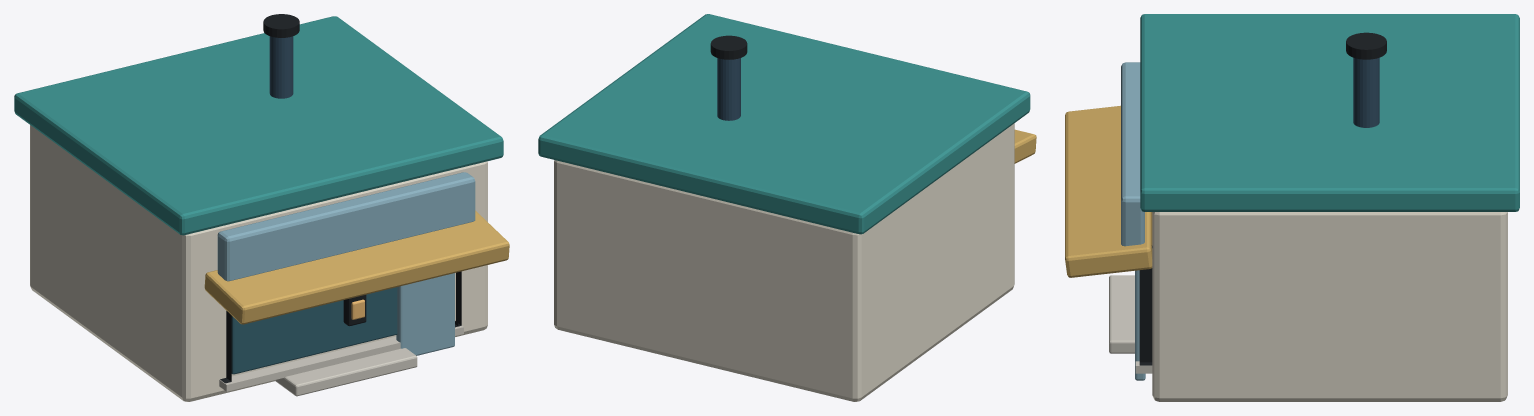
Rendered from COM_KIOSK_1x1_006.glb.
3 renders of one model, left to right at view 1: azimuth 30°, elevation 25°; view 2: azimuth 150°, elevation 25°; view 3: azimuth 270°, elevation 25°, orthographic. The views are drawn at different scales.
Visible parts, largest first — view 1: COM_KIOSK_1x1_006_Visual; view 2: COM_KIOSK_1x1_006_Visual; view 3: COM_KIOSK_1x1_006_Visual.
Part boxes in pixels (bbox=[...]): COM_KIOSK_1x1_006_Visual: bbox=[14, 14, 509, 401]; COM_KIOSK_1x1_006_Visual: bbox=[538, 14, 1036, 401]; COM_KIOSK_1x1_006_Visual: bbox=[1065, 14, 1519, 401].
Size of what is drawn, in the model's own units: 1.75 by 1.38 by 1.89.
